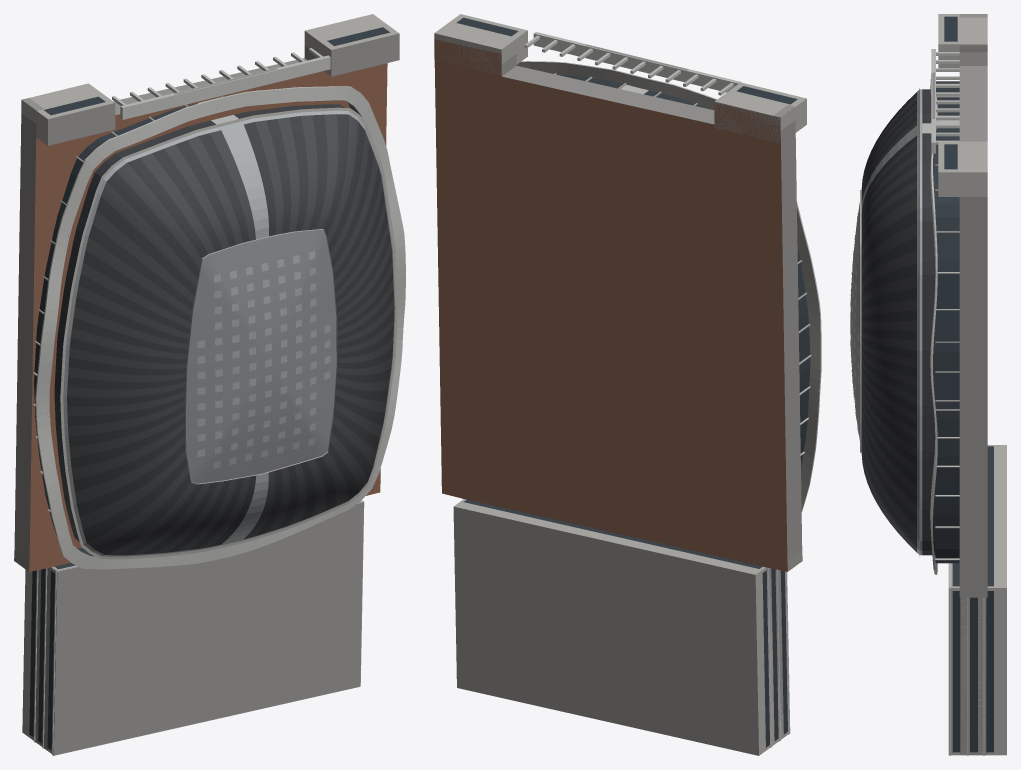
File: palau-sant-jordi.glb
3 renders of one model, left to right at view 1: azimuth 30°, elevation 25°; view 2: azimuth 150°, elevation 25°; view 3: azimuth 270°, elevation 25°, orthographic. The views are drawn at different scales.
Visible parts, largest first — view 1: palau-sant-jordi; view 2: palau-sant-jordi; view 3: palau-sant-jordi.
Part boxes in pixels (bbox=[...]): palau-sant-jordi: bbox=[14, 14, 405, 755]; palau-sant-jordi: bbox=[434, 14, 821, 755]; palau-sant-jordi: bbox=[850, 14, 1006, 755].
Size of the model in its own units: 122 by 205 by 48.57.
